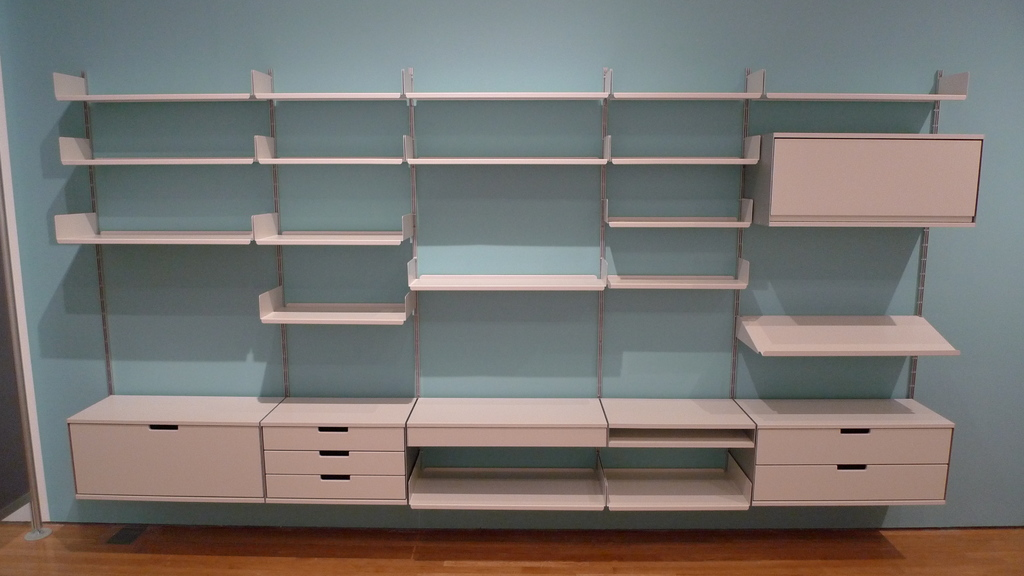cabinet door: (70, 423, 262, 486), (758, 459, 947, 498), (759, 428, 952, 466), (267, 470, 401, 502), (265, 426, 402, 450), (265, 450, 402, 473)
handle: (141, 418, 183, 438), (831, 457, 871, 475), (318, 445, 359, 462), (836, 424, 873, 439), (318, 470, 356, 482), (312, 425, 355, 435)
